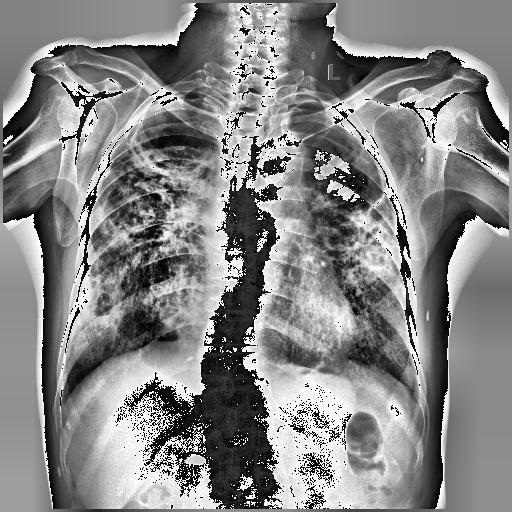0- Aortic enlargement: (304, 122, 382, 204), (258, 133, 314, 198), (256, 136, 310, 186), (261, 126, 303, 180)
11- Pleural thickening: (143, 88, 189, 113)
13- Pulmonary fibrosis: (68, 133, 220, 354), (67, 128, 210, 356), (80, 114, 218, 338), (278, 164, 410, 372), (294, 160, 410, 360), (320, 194, 414, 365)
5- ILD: (68, 133, 220, 354), (80, 114, 218, 338), (278, 164, 410, 372), (294, 160, 410, 360)
6- Infiltration: (68, 133, 220, 354), (67, 128, 210, 356), (80, 114, 218, 338), (278, 164, 410, 372), (294, 160, 410, 360), (320, 194, 414, 365)
9- Other lesion: (80, 114, 218, 338), (294, 160, 410, 360), (142, 98, 216, 174)
